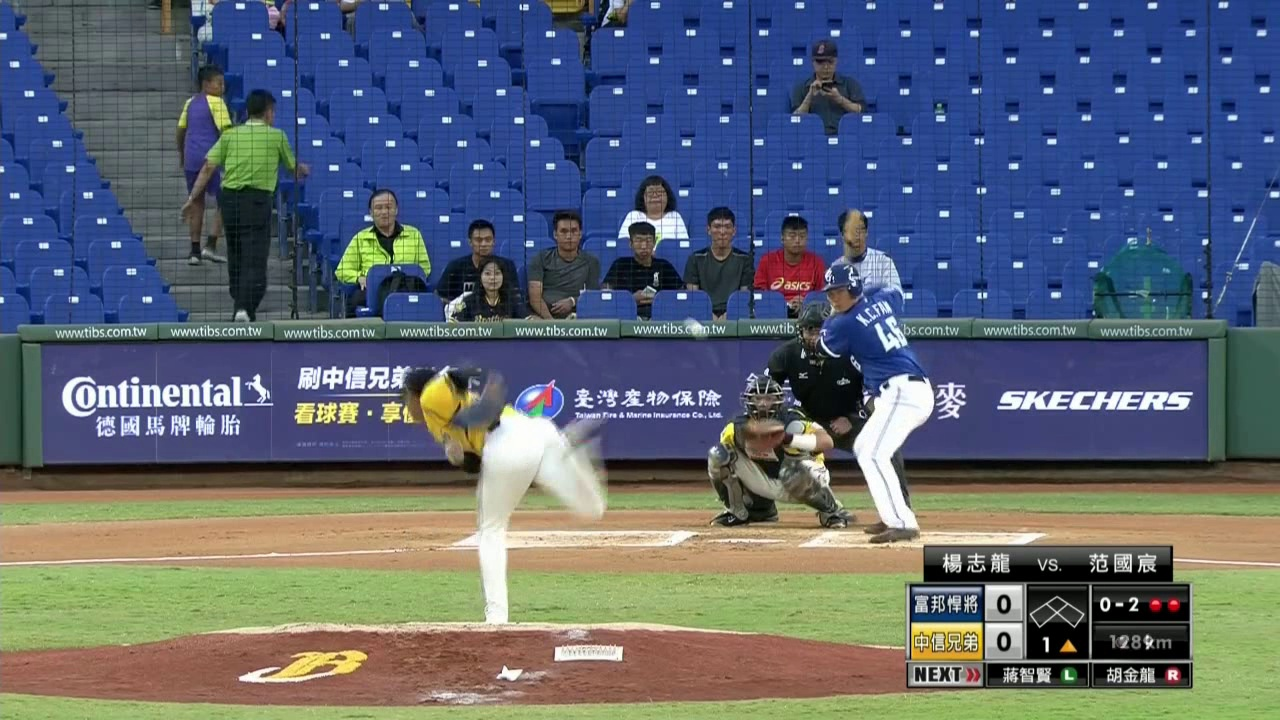ball: (684, 320, 705, 341)
base: (1028, 593, 1086, 630)
bat: (843, 204, 859, 272)
out: (1149, 594, 1183, 616)
score1: (985, 584, 1022, 621)
score2: (985, 624, 1024, 657)
session: (1038, 633, 1079, 656)
strikeball: (1097, 589, 1143, 615)
